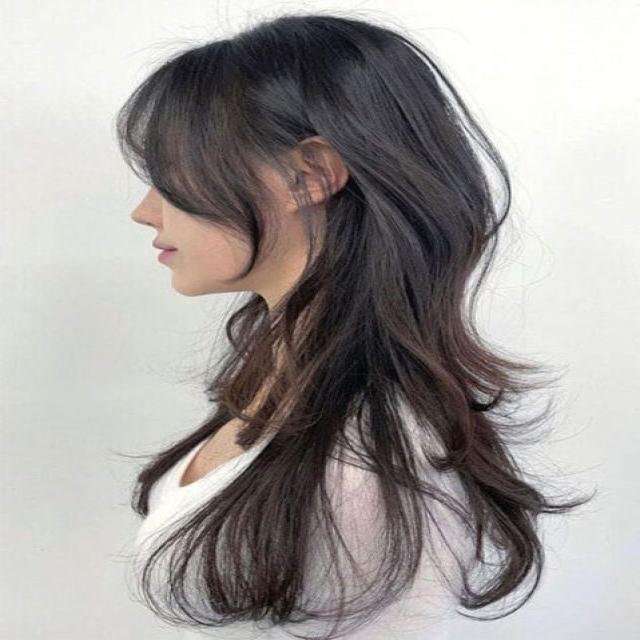Nonhelmet: (107, 3, 497, 308)
